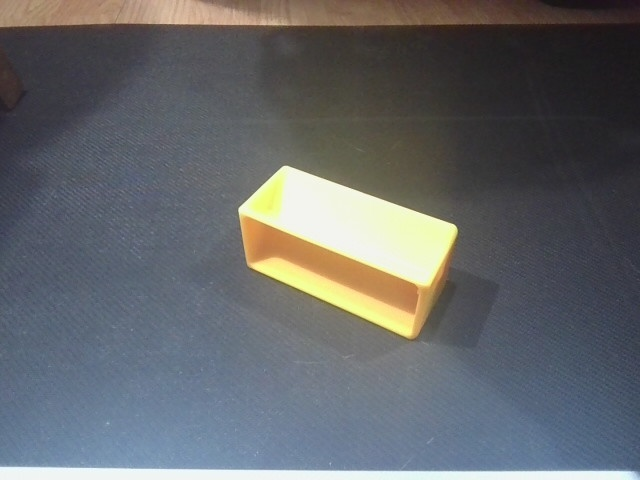YellowSample: (234, 162, 462, 344)
